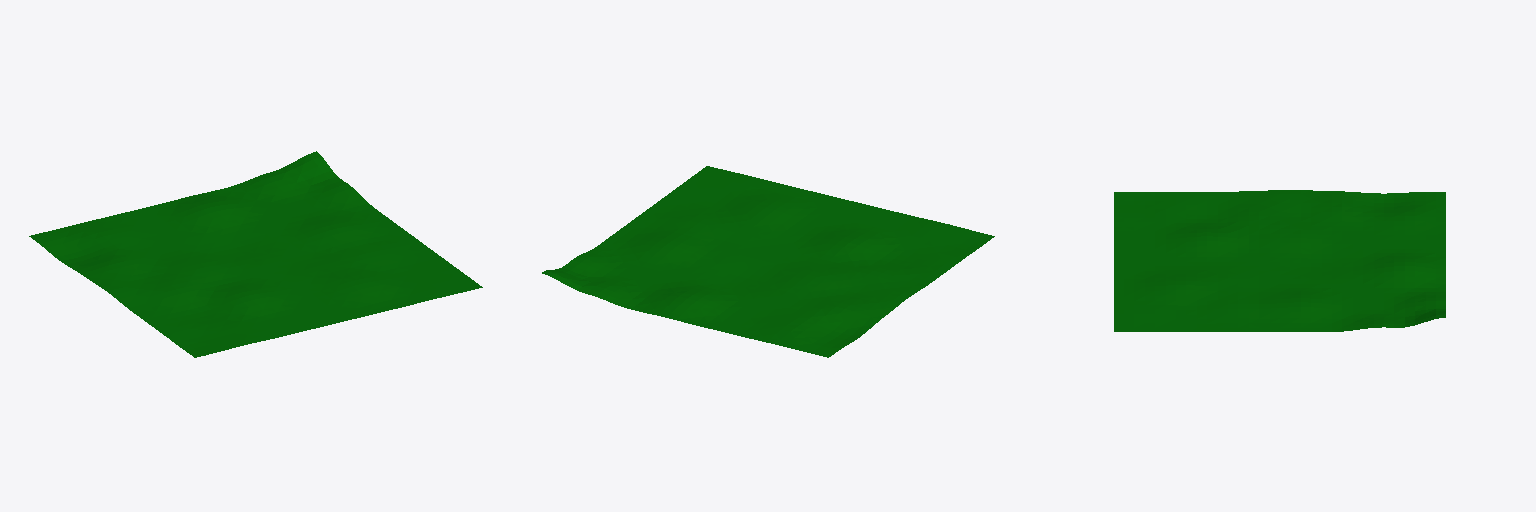
The model's file is suelo2.obj.
The picture shows the model from 3 angles: view 1: azimuth 30°, elevation 25°; view 2: azimuth 150°, elevation 25°; view 3: azimuth 270°, elevation 25°; orthographic projection.
Parts seen in each view (by area): view 1: pCube1; view 2: pCube1; view 3: pCube1.
Part boxes in pixels (x1,y1,x2,y2): pCube1: (29, 151, 482, 357); pCube1: (542, 166, 994, 357); pCube1: (1114, 190, 1445, 331).
Bounding box in the file's own units: 31.79 × 1.86 × 31.79.